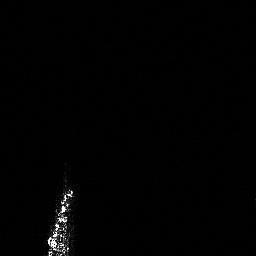ship: (44, 188, 79, 256)
